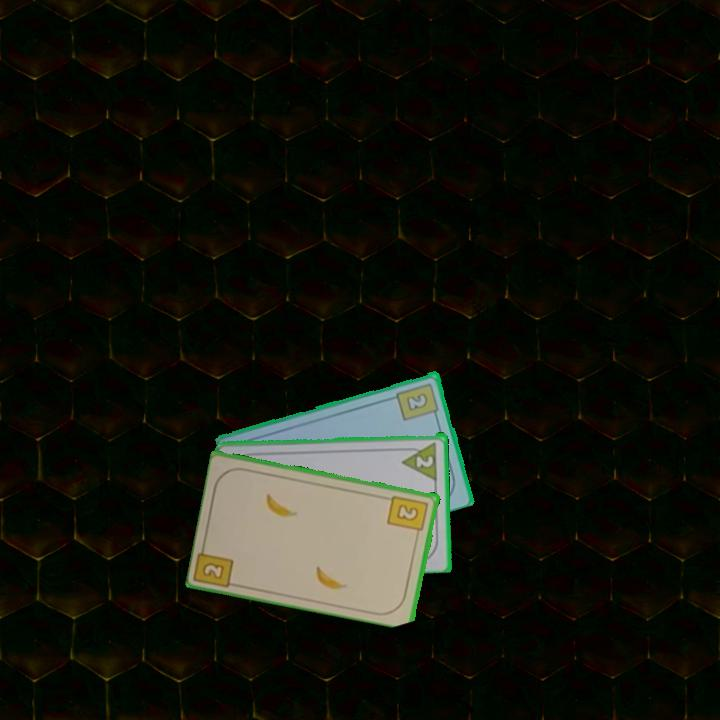2b: (385, 492, 431, 539), (393, 379, 442, 423), (199, 559, 227, 582)
2p: (413, 451, 436, 470)
